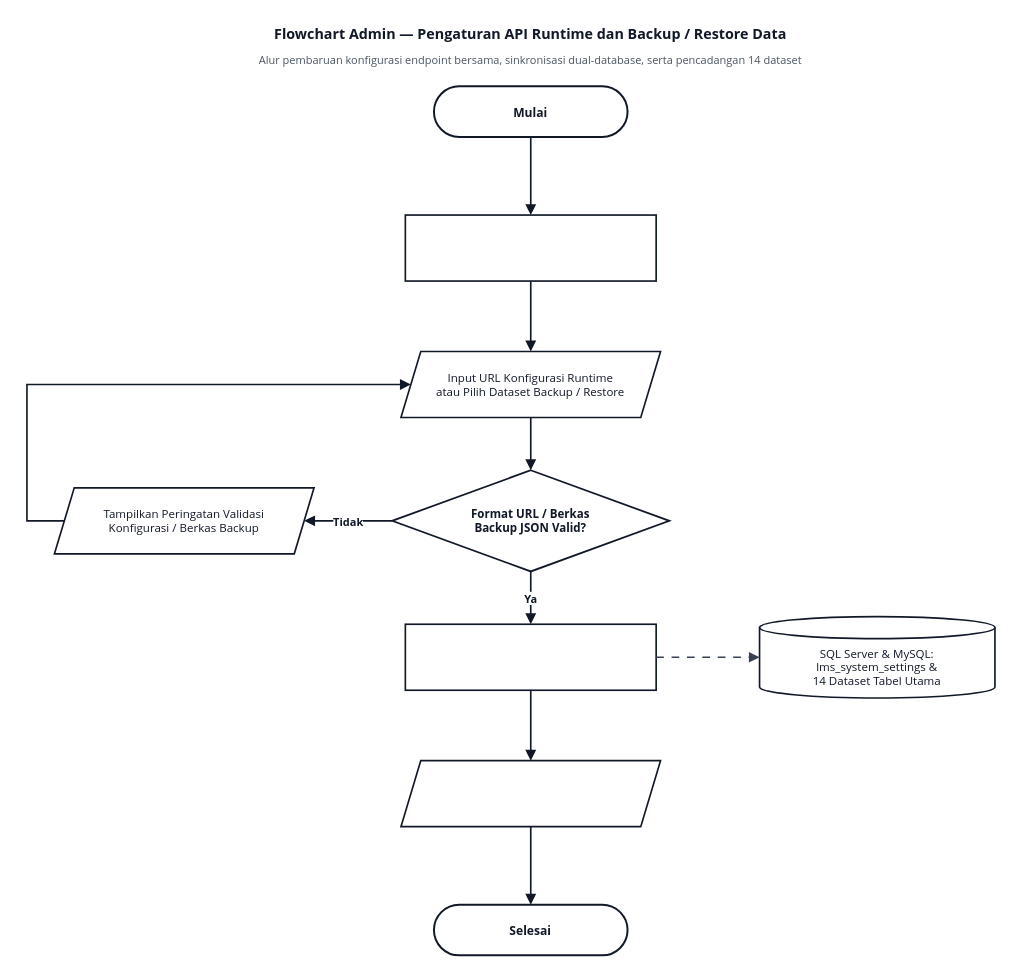
Some shapes in this 1015 by 975 pixel diagram are drawn without their labels. Each missing label, with the centre of its shape:
"Buka Menu Atur API atau Menu Backup Data" goes at point 530,247.
"Simpan Pengaturan, Jalankan Sync Katalog, atau Eksekusi Job Backup" goes at point 530,657.
"Tampilkan Status Konfigurasi Aktif atau Unduh Berkas Backup JSON" goes at point 530,793.
